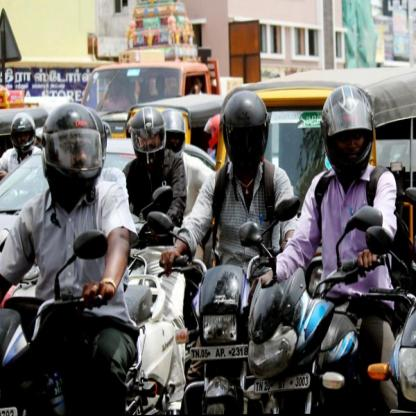With Helmet: (34, 98, 110, 202), (313, 78, 384, 189), (214, 83, 278, 185), (124, 101, 171, 172)
